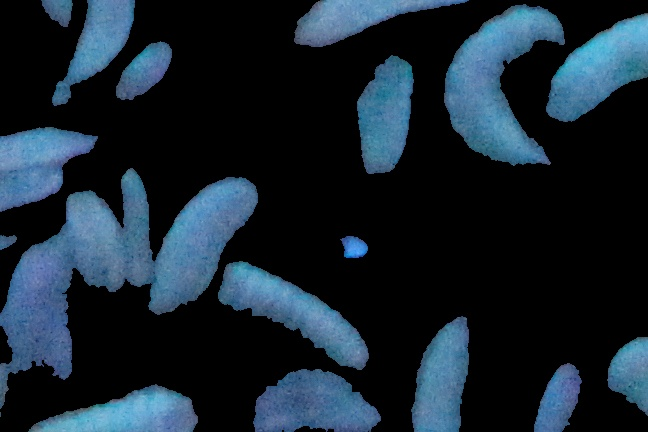larvae: (212, 260, 388, 375), (142, 180, 264, 326), (447, 7, 557, 167), (544, 10, 648, 129), (3, 228, 73, 383), (295, 1, 490, 50), (237, 371, 381, 432), (24, 386, 207, 432), (354, 61, 424, 179), (413, 313, 474, 432), (60, 191, 123, 303), (66, 1, 141, 83), (108, 170, 155, 287), (530, 350, 590, 432), (1, 119, 112, 163), (107, 42, 177, 100), (1, 166, 70, 205)
